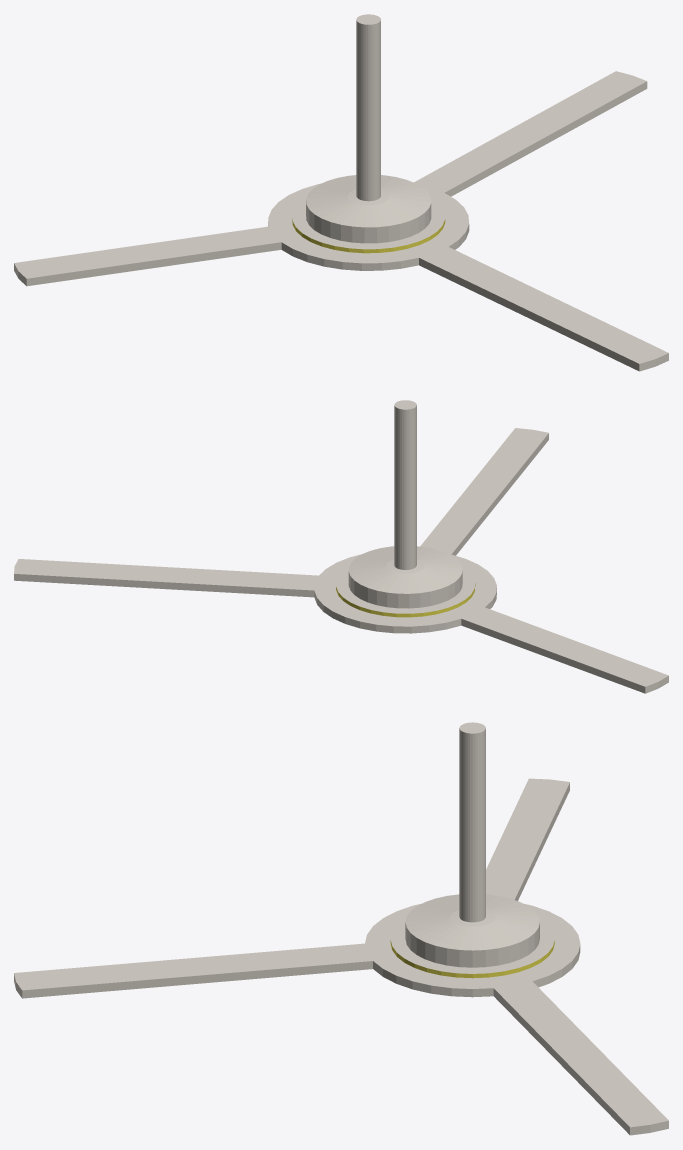
The model's file is Kipas.fbx.
The picture shows the model from 3 angles, top to bottom: view 1: azimuth 30°, elevation 25°; view 2: azimuth 150°, elevation 25°; view 3: azimuth 270°, elevation 25°; orthographic projection. The views are drawn at different scales.
Parts seen in each view (by area): view 1: Cylinder; view 2: Cylinder; view 3: Cylinder.
Part boxes in pixels (bbox=[...]): Cylinder: bbox=[14, 14, 668, 371]; Cylinder: bbox=[14, 400, 668, 693]; Cylinder: bbox=[14, 722, 668, 1135].
Size of the model in its own units: 457 by 140 by 363.
